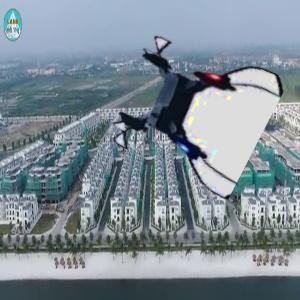drone: (117, 37, 266, 186)
